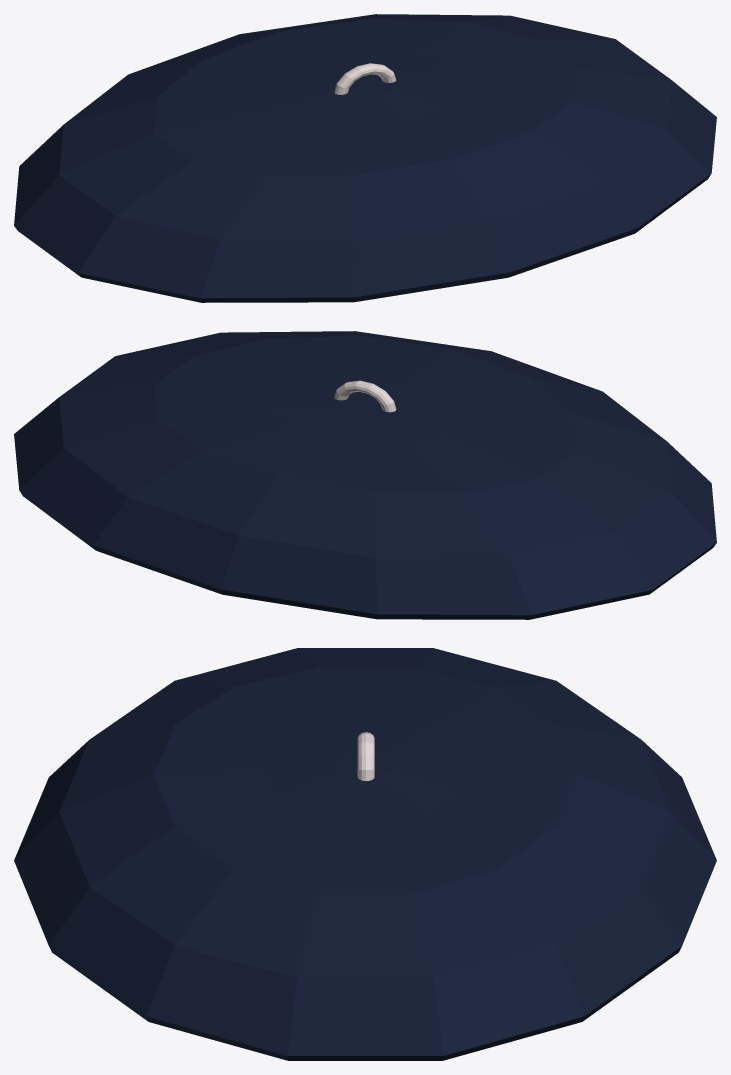
File: Cooking_pot_lid.fbx
3 views of the same model, one above another, from view 1: azimuth 30°, elevation 25°; view 2: azimuth 150°, elevation 25°; view 3: azimuth 270°, elevation 25° (orthographic). The views are drawn at different scales.
Visible parts, largest first — view 1: Torus; view 2: Torus; view 3: Torus.
Part boxes in pixels (bbox=[...]): Torus: bbox=[14, 14, 716, 302]; Torus: bbox=[14, 331, 716, 619]; Torus: bbox=[14, 648, 716, 1060].
Size of the model in its own units: 123 by 20.52 by 96.45.
1 material, 1 textured.
